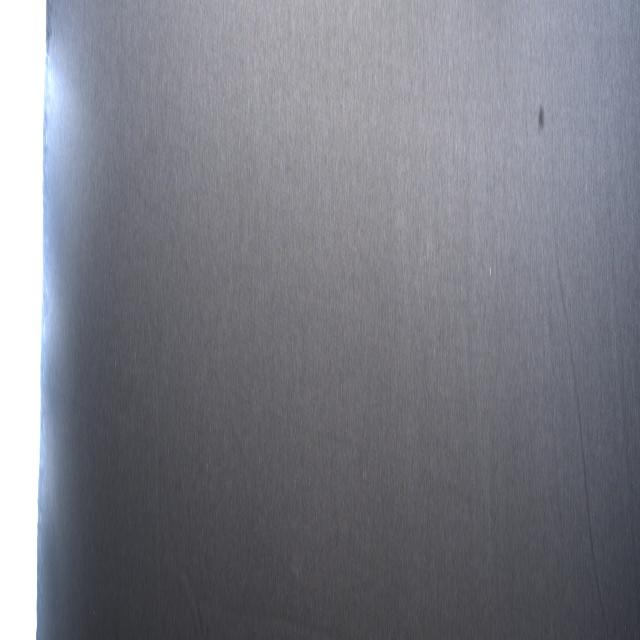crease: (554, 226, 607, 620), (607, 235, 628, 467), (146, 313, 162, 568), (176, 557, 204, 639)
whiteDefect: (489, 253, 492, 282)
